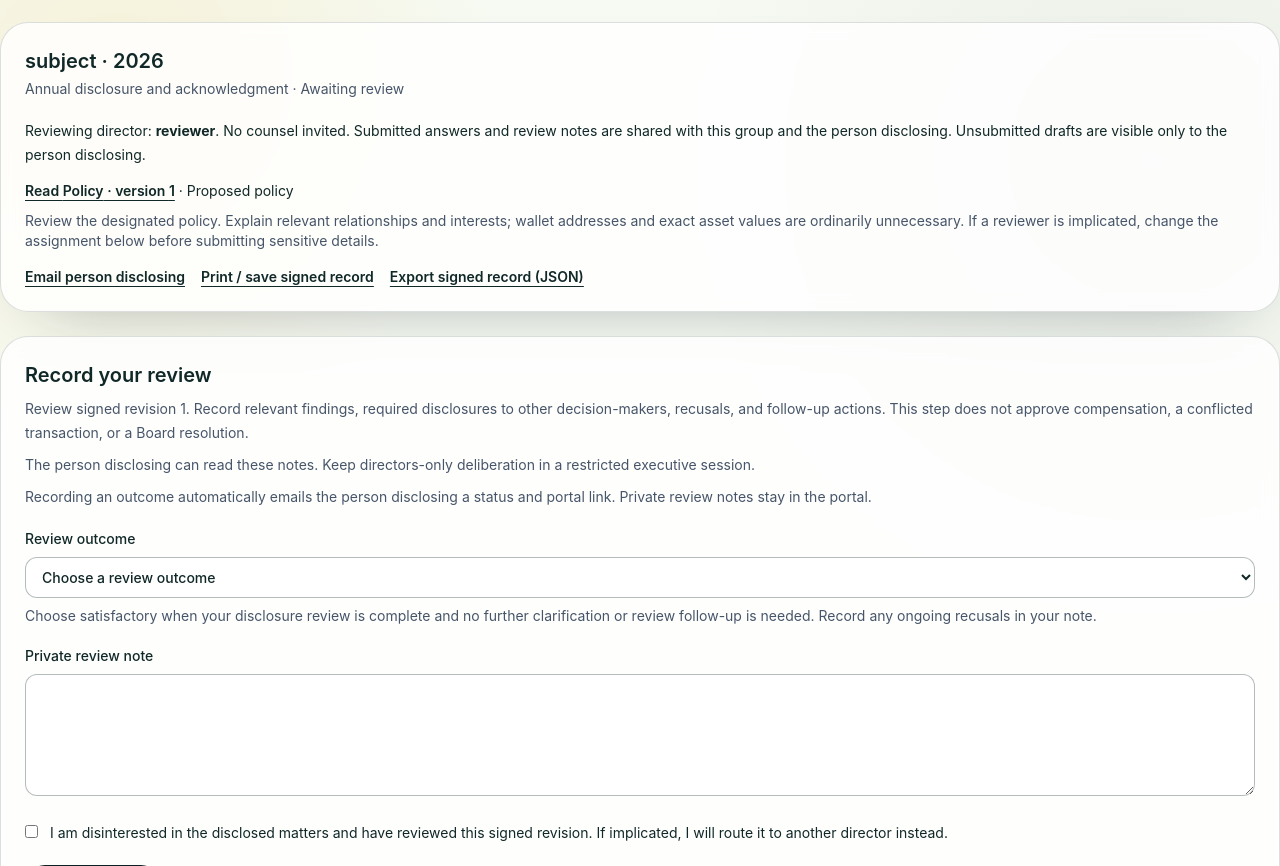
Test: disclosure acknowledgment freshness › resets review notes and independence when a new signed revision arrives during an unrelated reload
Type "Review of old revision" into the text box labelled "Private review note" at (640, 735), box [25,674,1255,796]
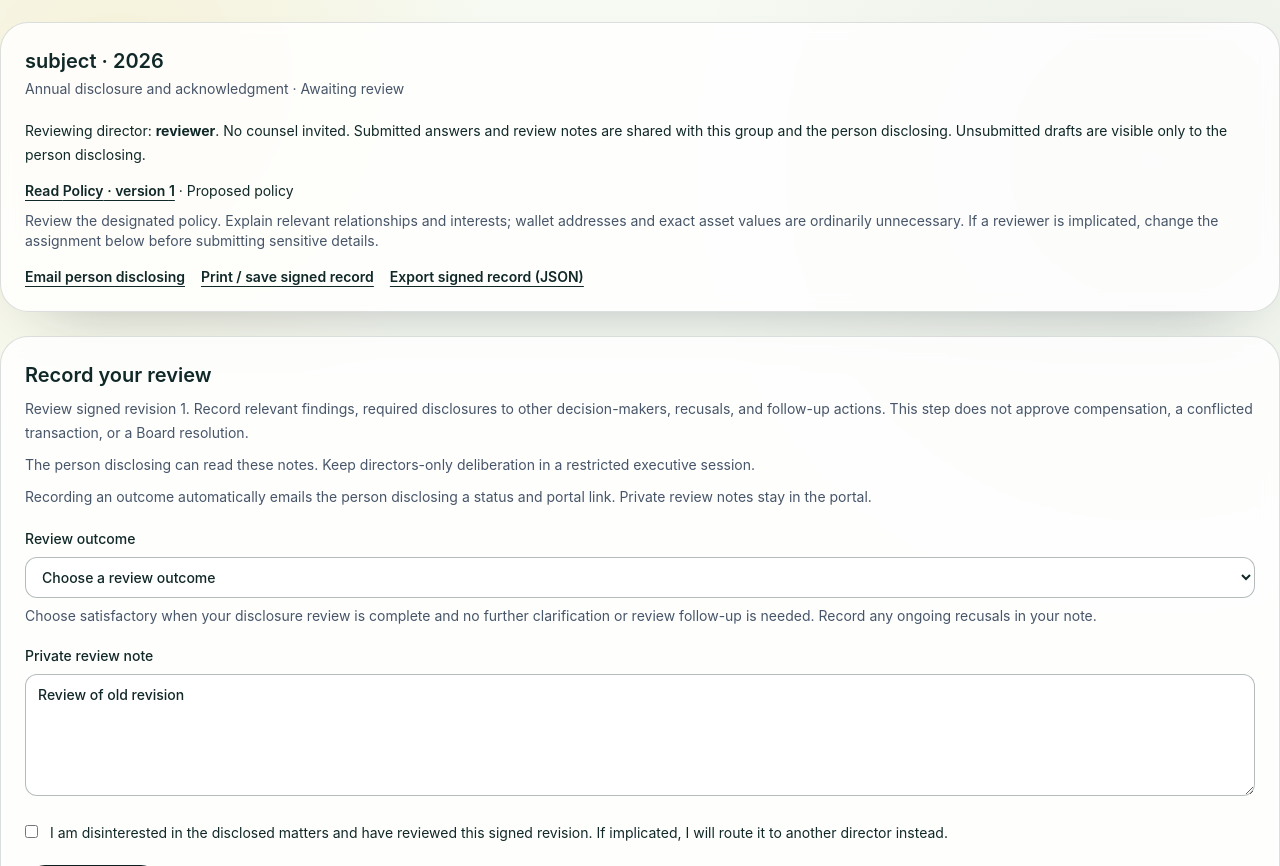
Click the checkbox labelled "I am disinterested" at (32, 832), box [25,825,38,838]
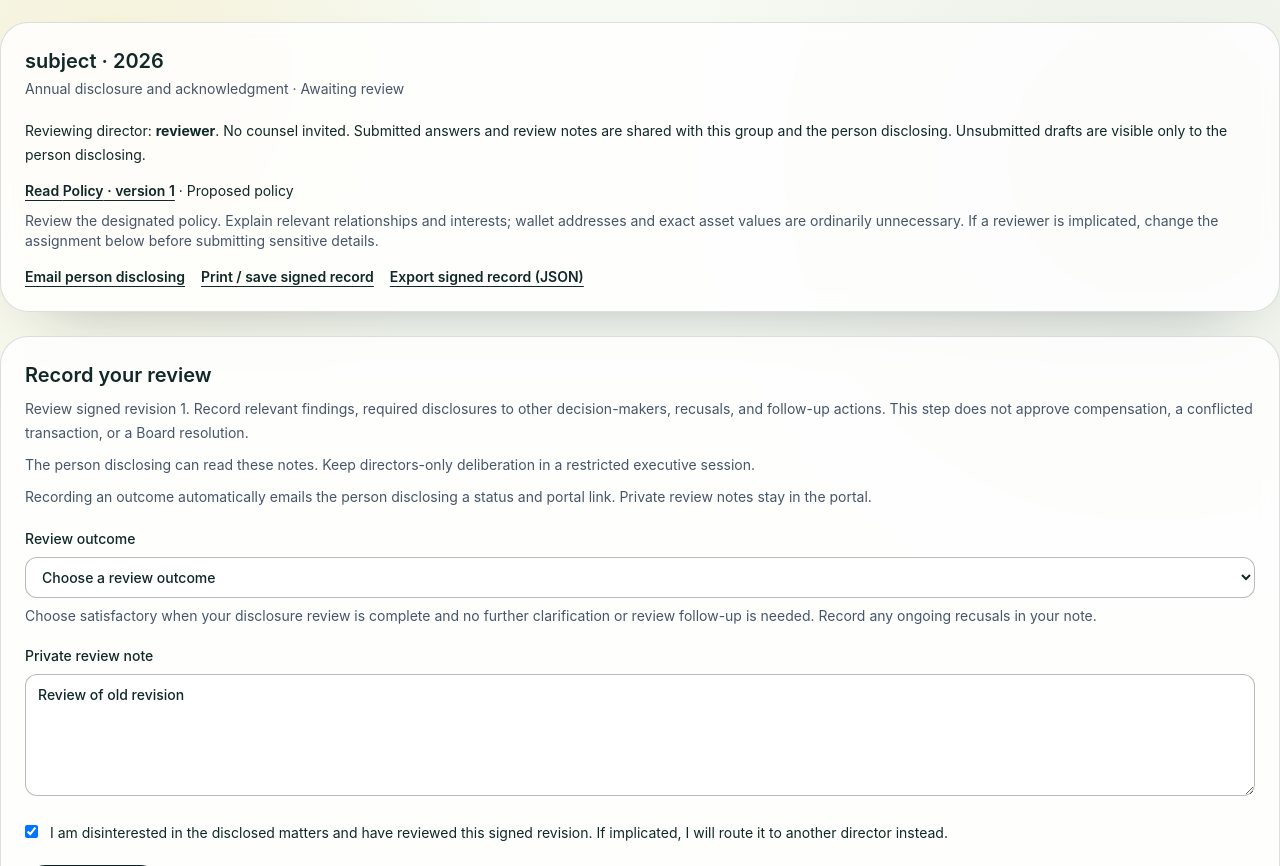
Click the button "Email person disclosing" at (105, 277), box [25,267,185,287]
(page scrolled)
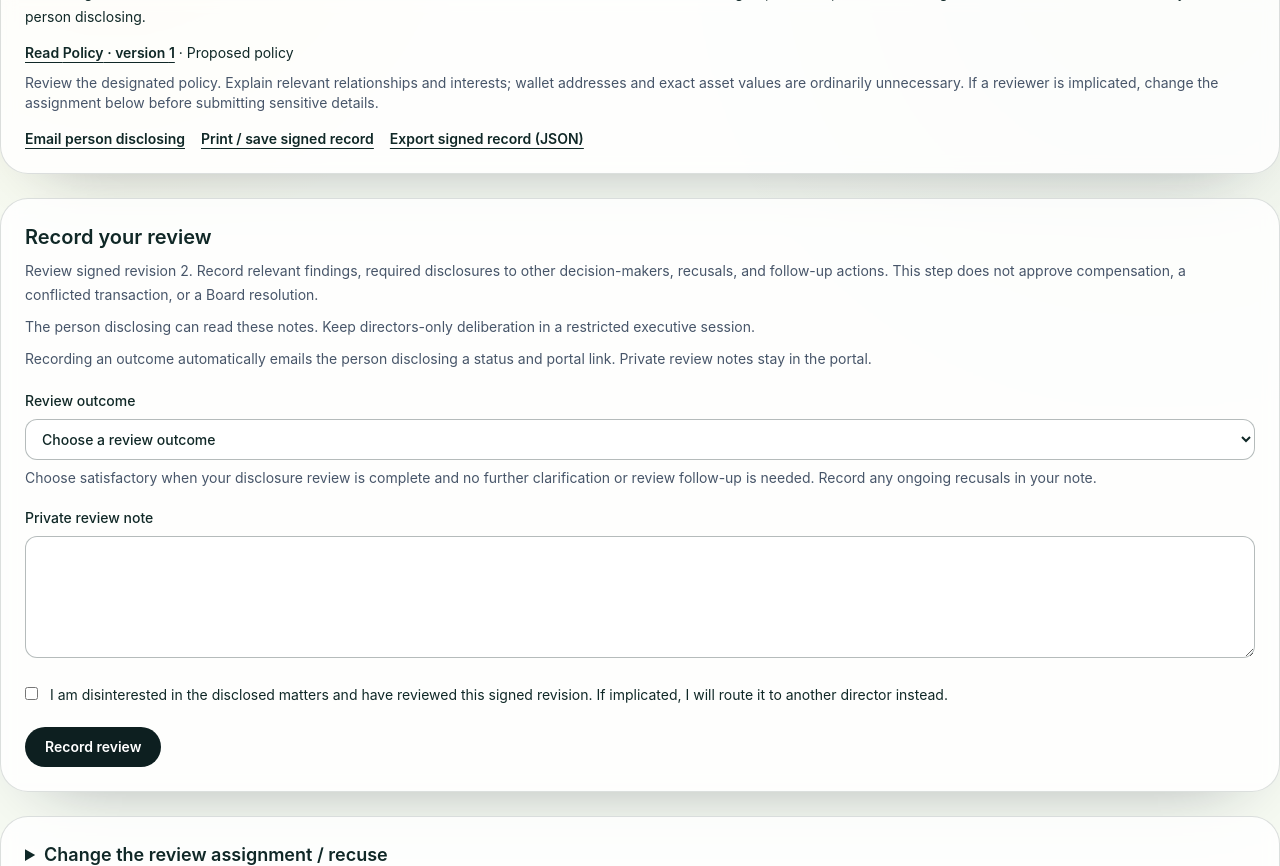
Now the text box labelled "Private review note" is empty, box [25,536,1255,658]
Now the checkbox labelled "I am disinterested" is not checked, box [25,687,38,700]
